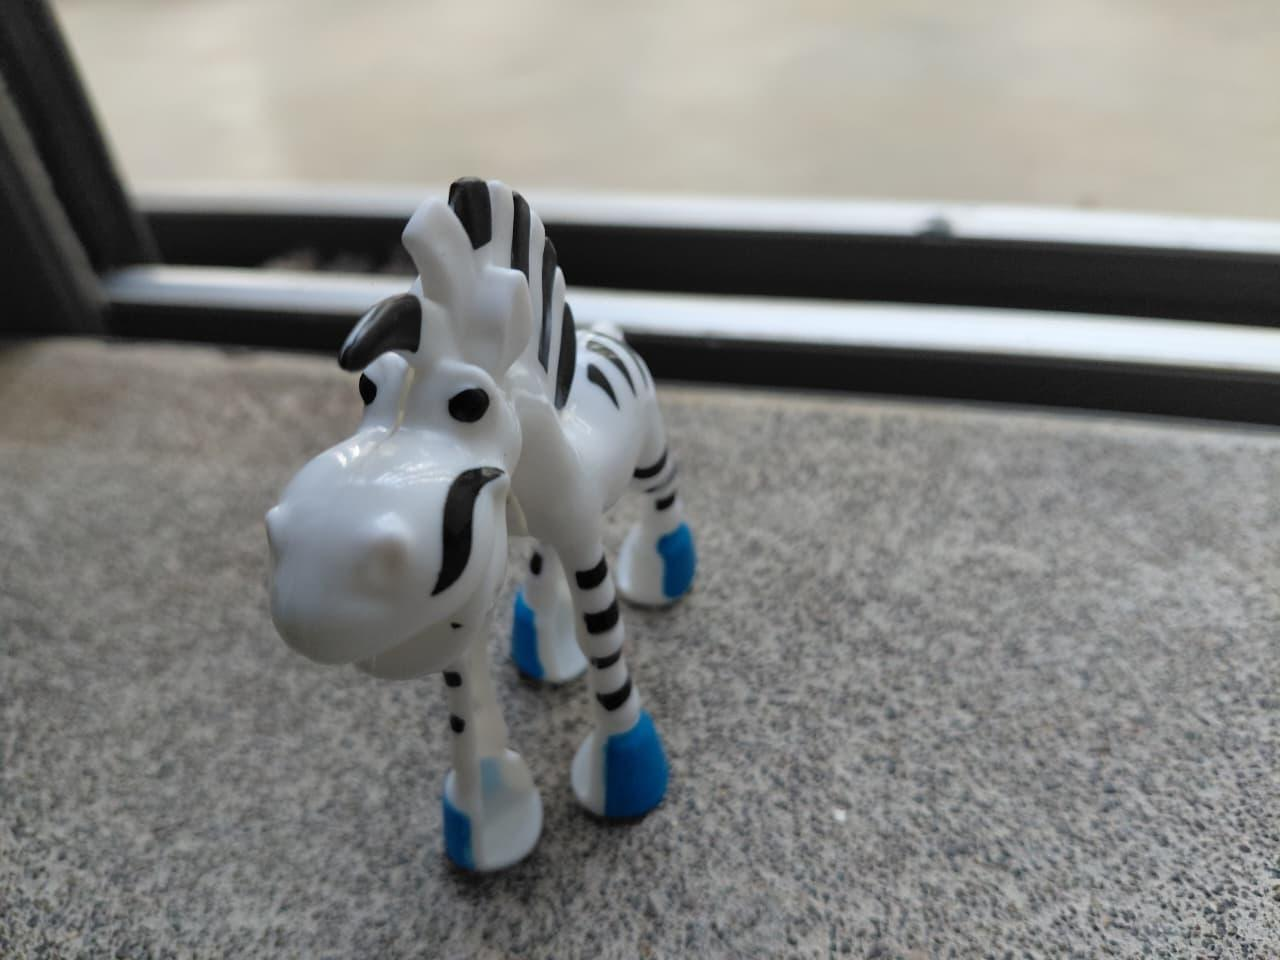zebra: (124, 107, 825, 919)
